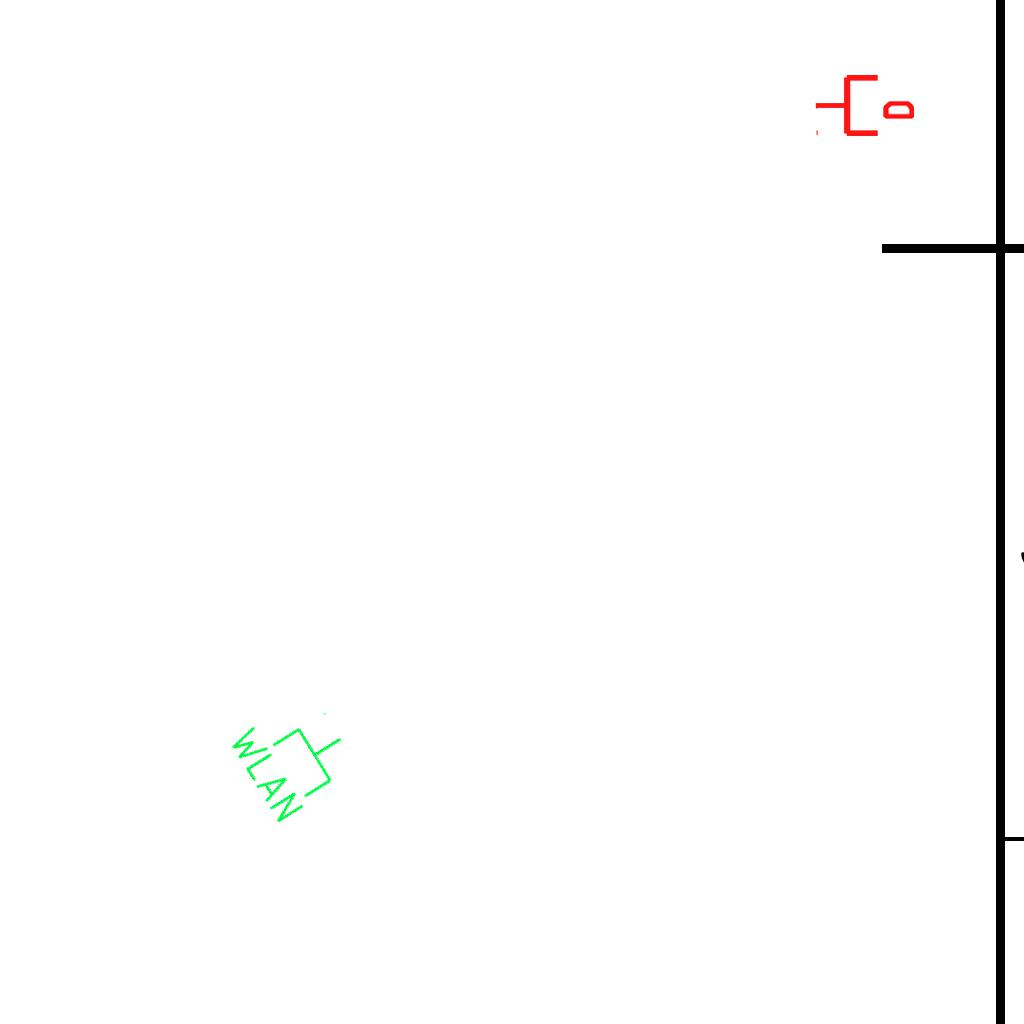Datenanschluss_einfach: (814, 71, 914, 140)
WLAN: (222, 684, 366, 829)
